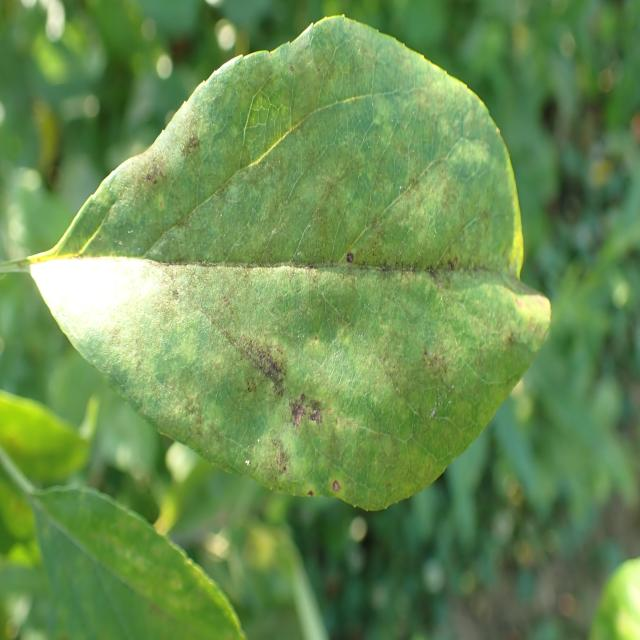scab: (19, 48, 535, 478)
